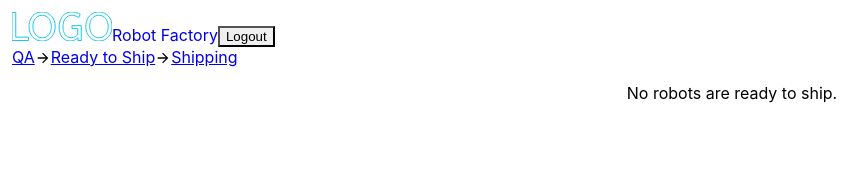
When user clicks link › "Shipping" link should render "Shipping" dashboard
Check: the element with test id "db-ready-to-ship" is shown, box [627,83,837,103]
Click the link "Shipping": (204, 57) [171,47,238,67]
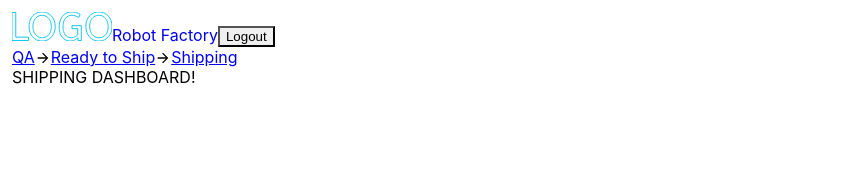
Check: the text "SHIPPING DASHBOARD!" is shown, box [12,67,196,87]
